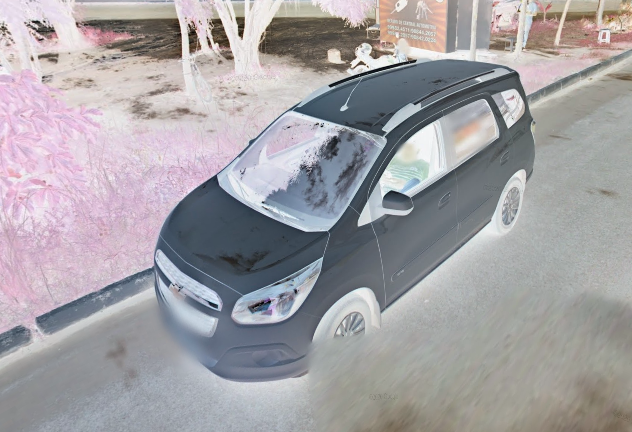car: (151, 55, 537, 389)
